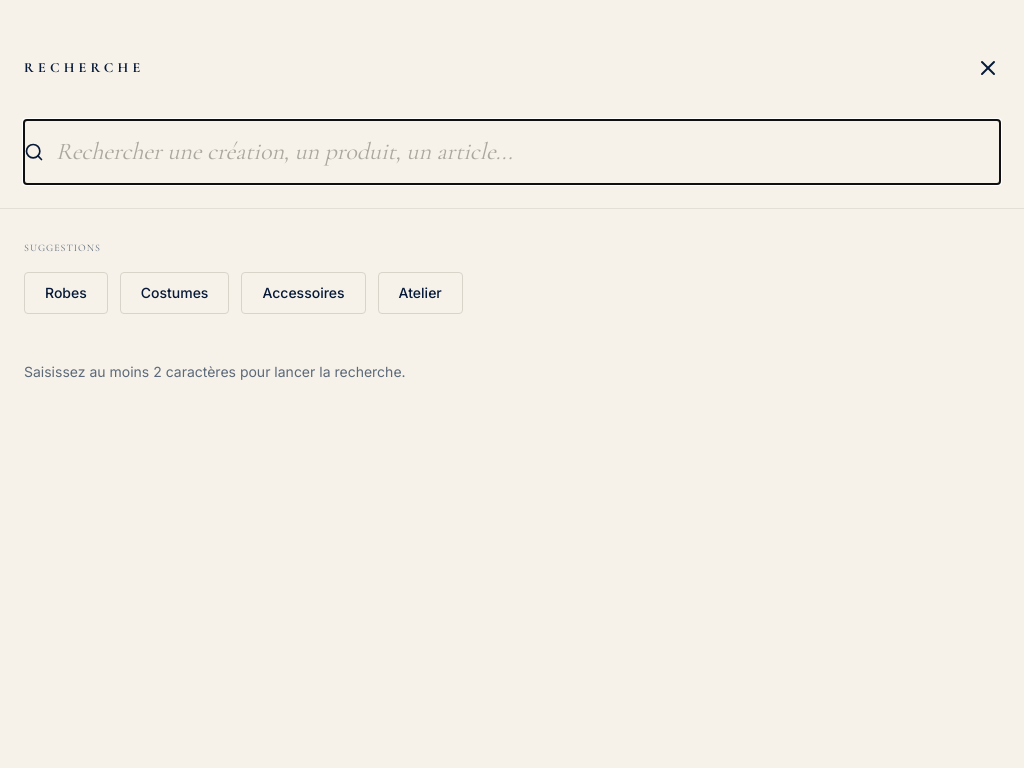
Test: MobileSearchOverlay › clicking a suggestion chip fills the search input
The image size is (1024, 768).
Click the button "Robes" at [66, 293], box [24, 272, 108, 314]
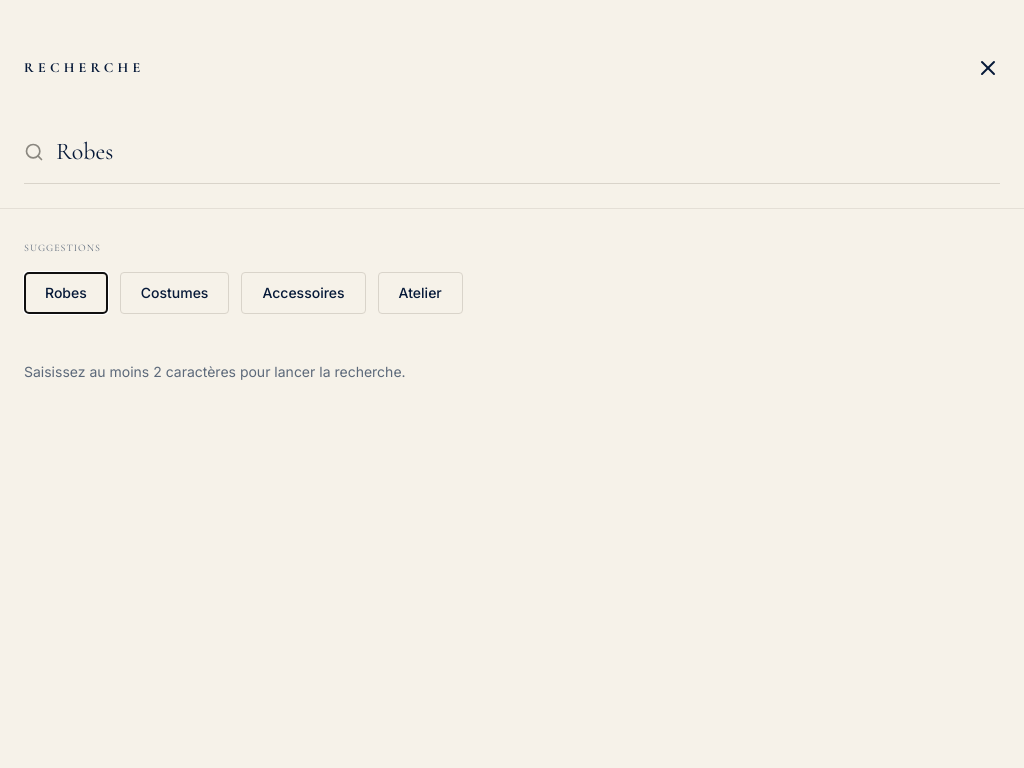
Expected: the field named "Rechercher" holds "Robes", [24, 120, 1000, 184]
